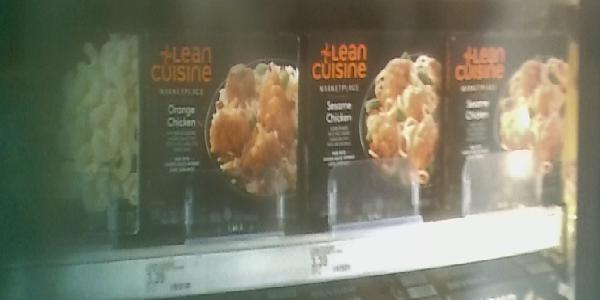pizza1: (141, 33, 299, 235), (300, 34, 447, 236), (448, 35, 564, 219)
